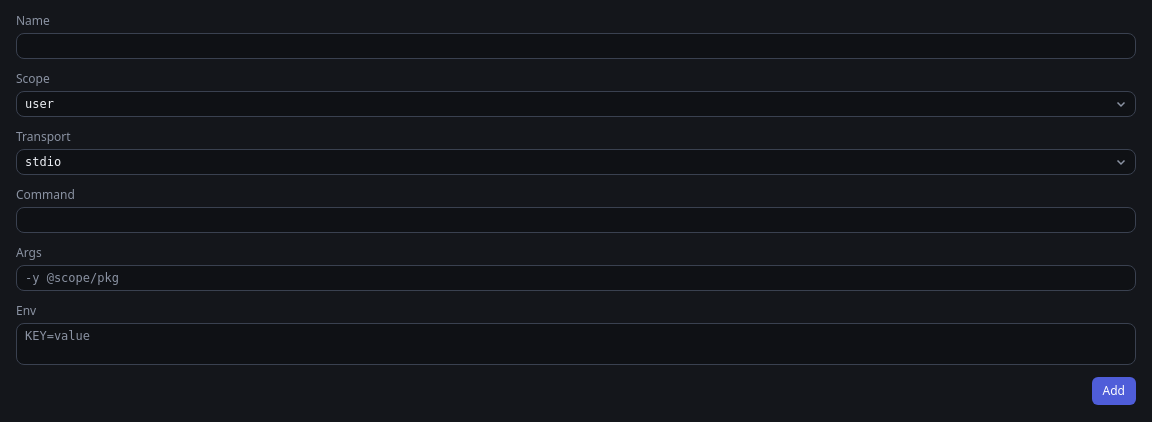
McpServerForm › switches to url/headers fields when transport is http
Select "http" in the dropdown labelled "Transport". click: (576, 162)
box: 16,149 -> 1136,175
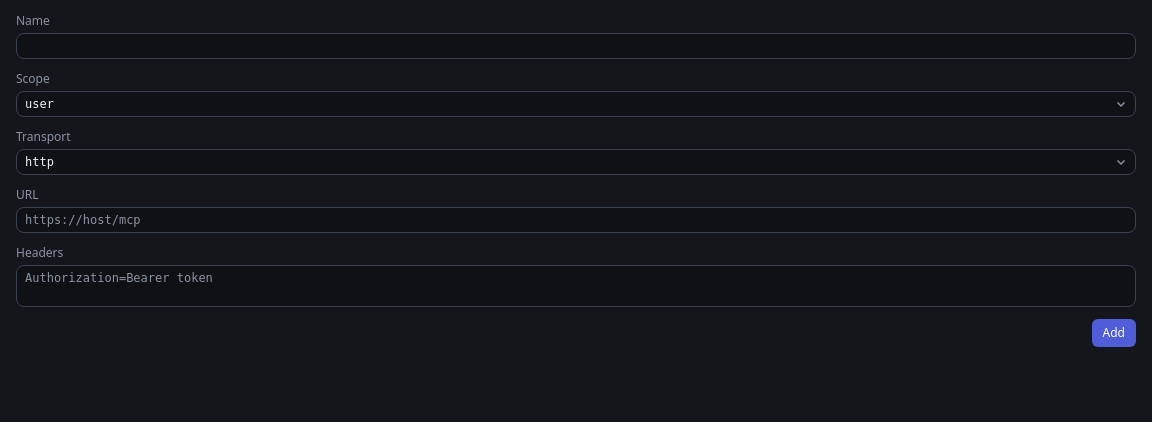
Expected: the field labelled "URL" is shown, 16,207 -> 1136,233
Result: the label labelled "Command" is gone
